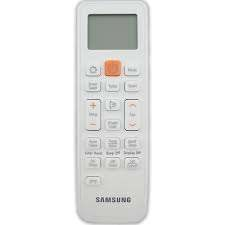remote control: (70, 0, 154, 225)
